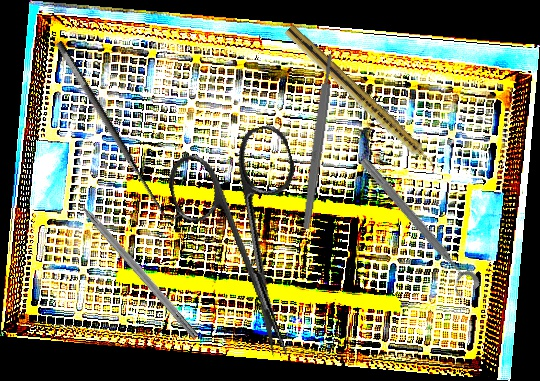Fixation Ring: (348, 153, 483, 302)
Handpiece: (281, 23, 443, 177)
Hook Surgical: (52, 31, 186, 229), (64, 185, 201, 340)
Iris Scissors: (160, 121, 344, 373)
Scalpel Handle: (300, 53, 337, 230)
